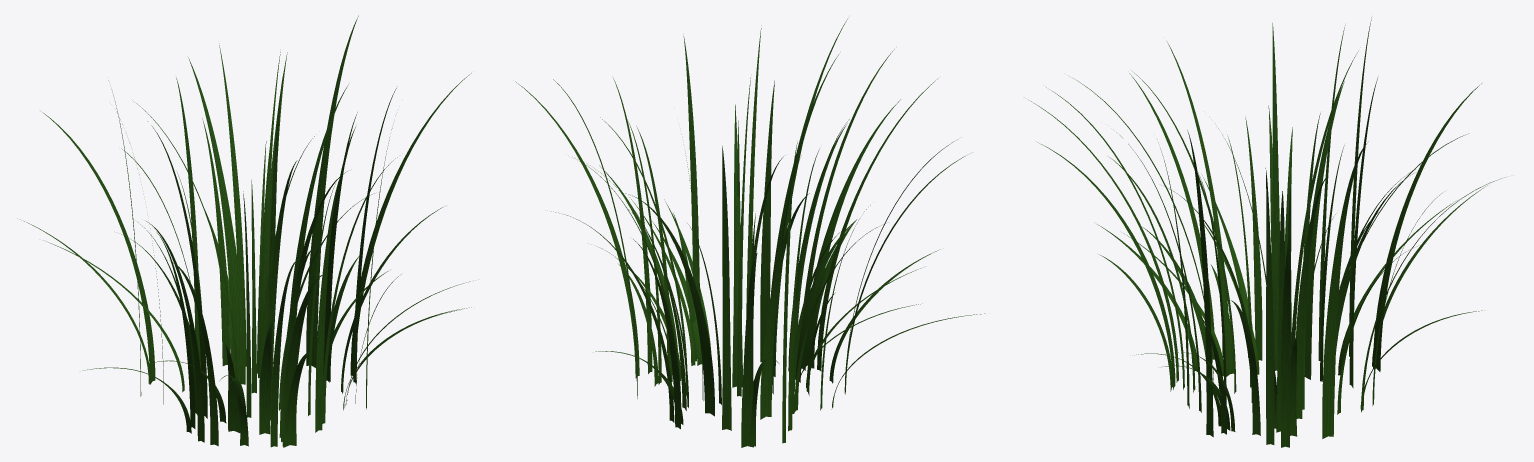
File: plant-grass.glb
The picture shows the model from 3 angles, left to right: view 1: azimuth 30°, elevation 25°; view 2: azimuth 150°, elevation 25°; view 3: azimuth 270°, elevation 25°; orthographic projection. The views are drawn at different scales.
Parts seen in each view (by area): view 1: Vallisneria · flowing rooted clump · export mesh; view 2: Vallisneria · flowing rooted clump · export mesh; view 3: Vallisneria · flowing rooted clump · export mesh.
Part boxes in pixels (x1,y1,x2,y2): Vallisneria · flowing rooted clump · export mesh: (17,15,473,447); Vallisneria · flowing rooted clump · export mesh: (515,19,985,447); Vallisneria · flowing rooted clump · export mesh: (1029,17,1504,447).
Size of the model in its own units: 0.1488 by 0.1039 by 0.1413.
1 material, 1 textured.
